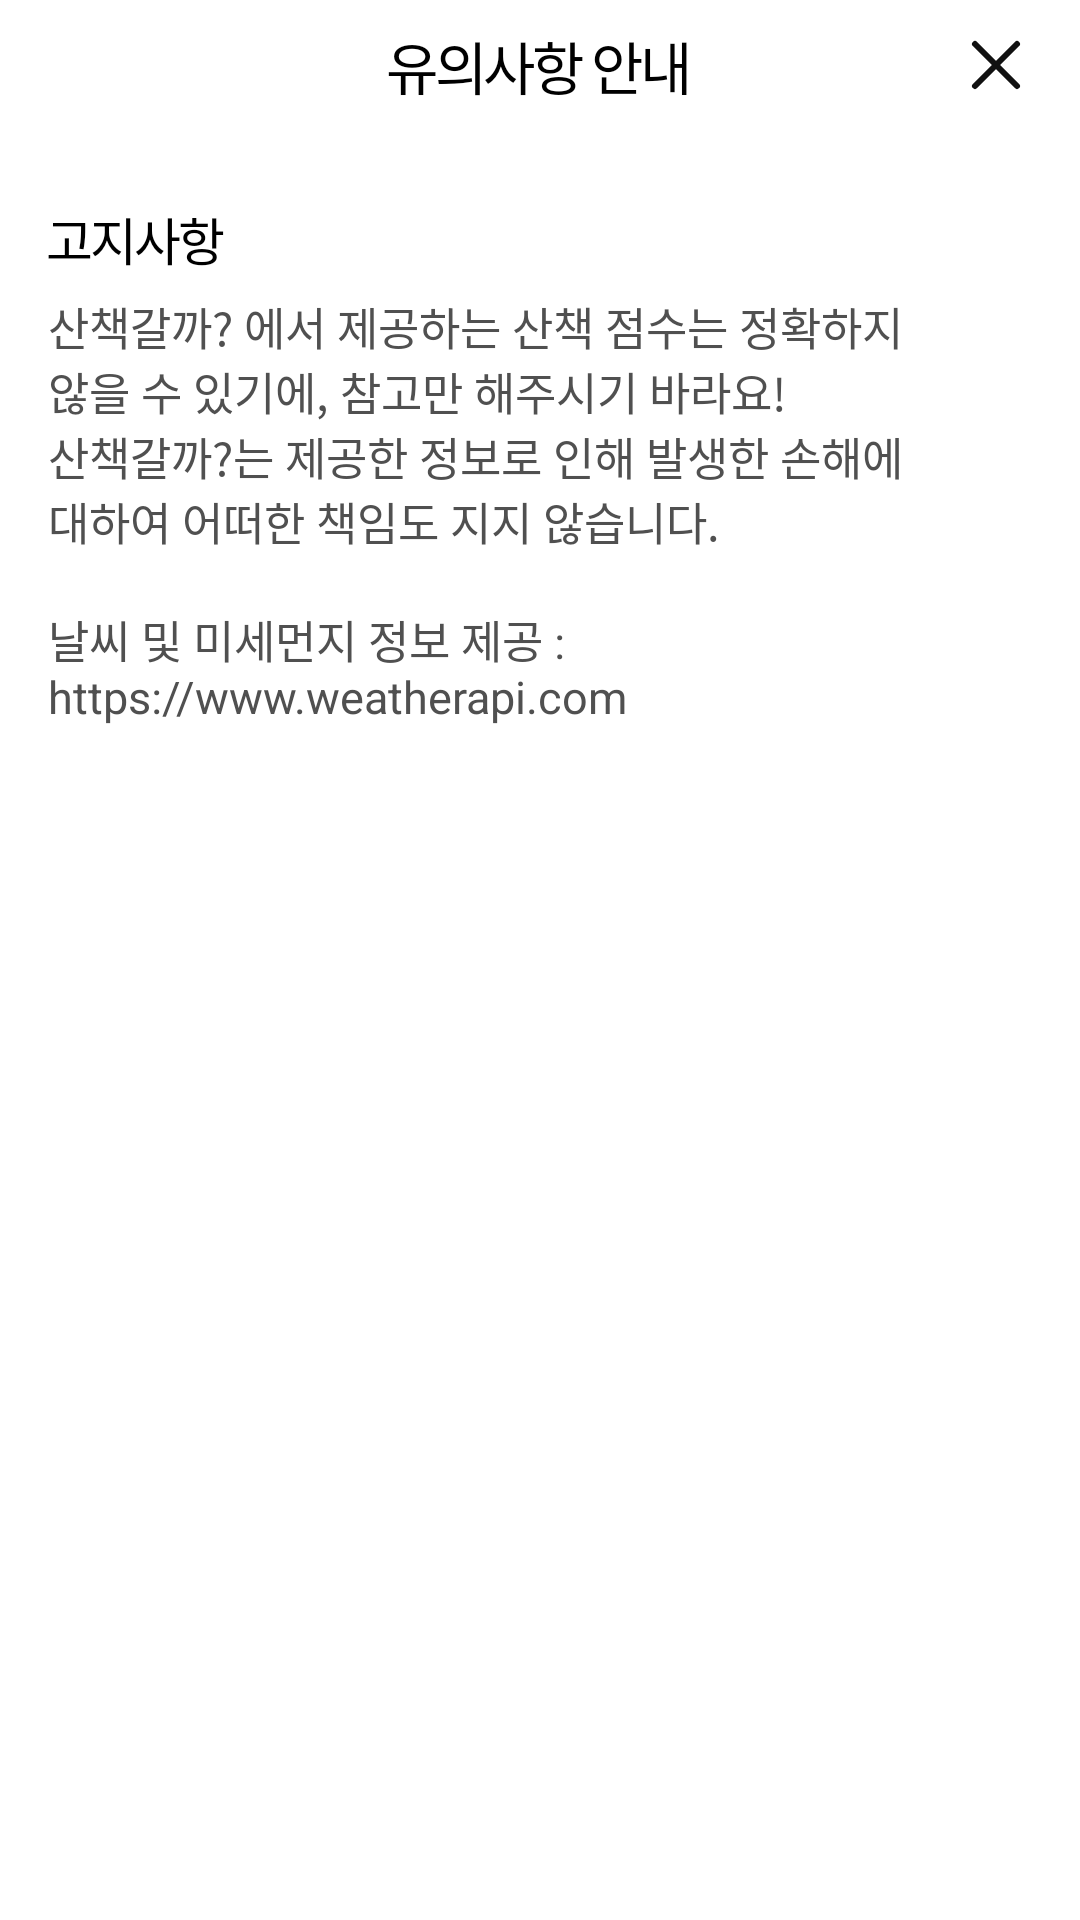

Locate icon controls on the screen. Image size 1080*1920, boxes as (x1, y1, x2, y2).
close: (972, 40, 1020, 89)
